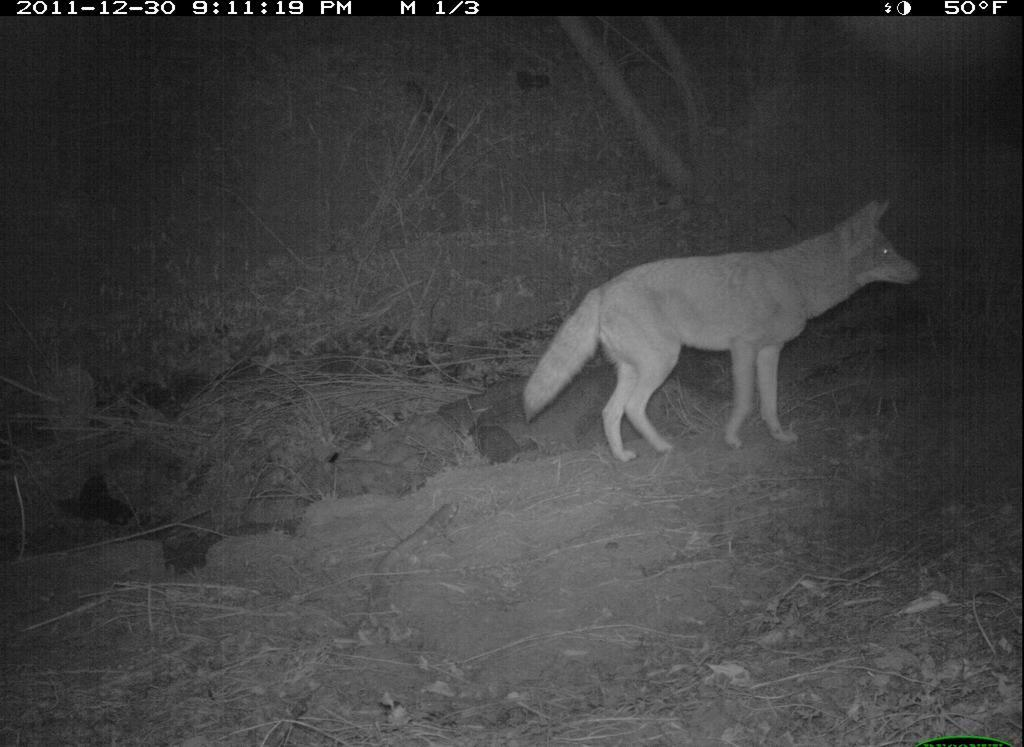coyote: (510, 196, 936, 472)
